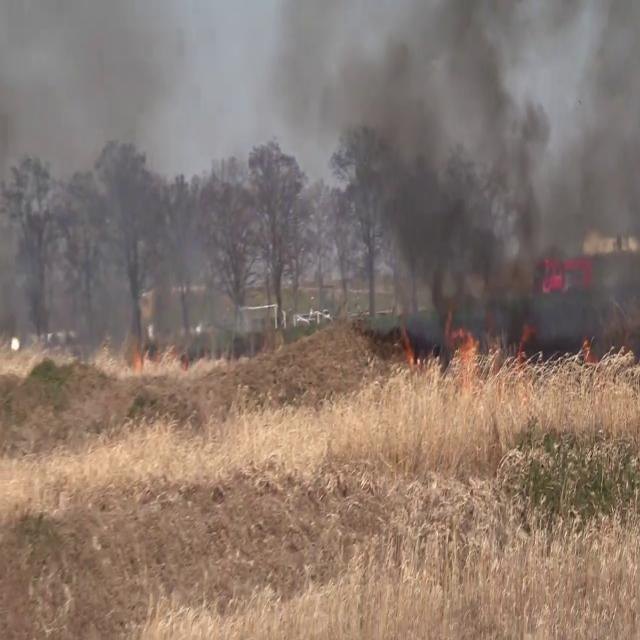Fire: (451, 322, 482, 368)
Smoke: (284, 0, 640, 353), (0, 2, 292, 370)
